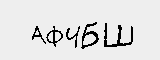А: (29, 24, 47, 44)
Б: (79, 20, 98, 50)
Ф: (44, 23, 64, 46)
Ч: (64, 22, 82, 48)
Ш: (103, 22, 135, 49)
